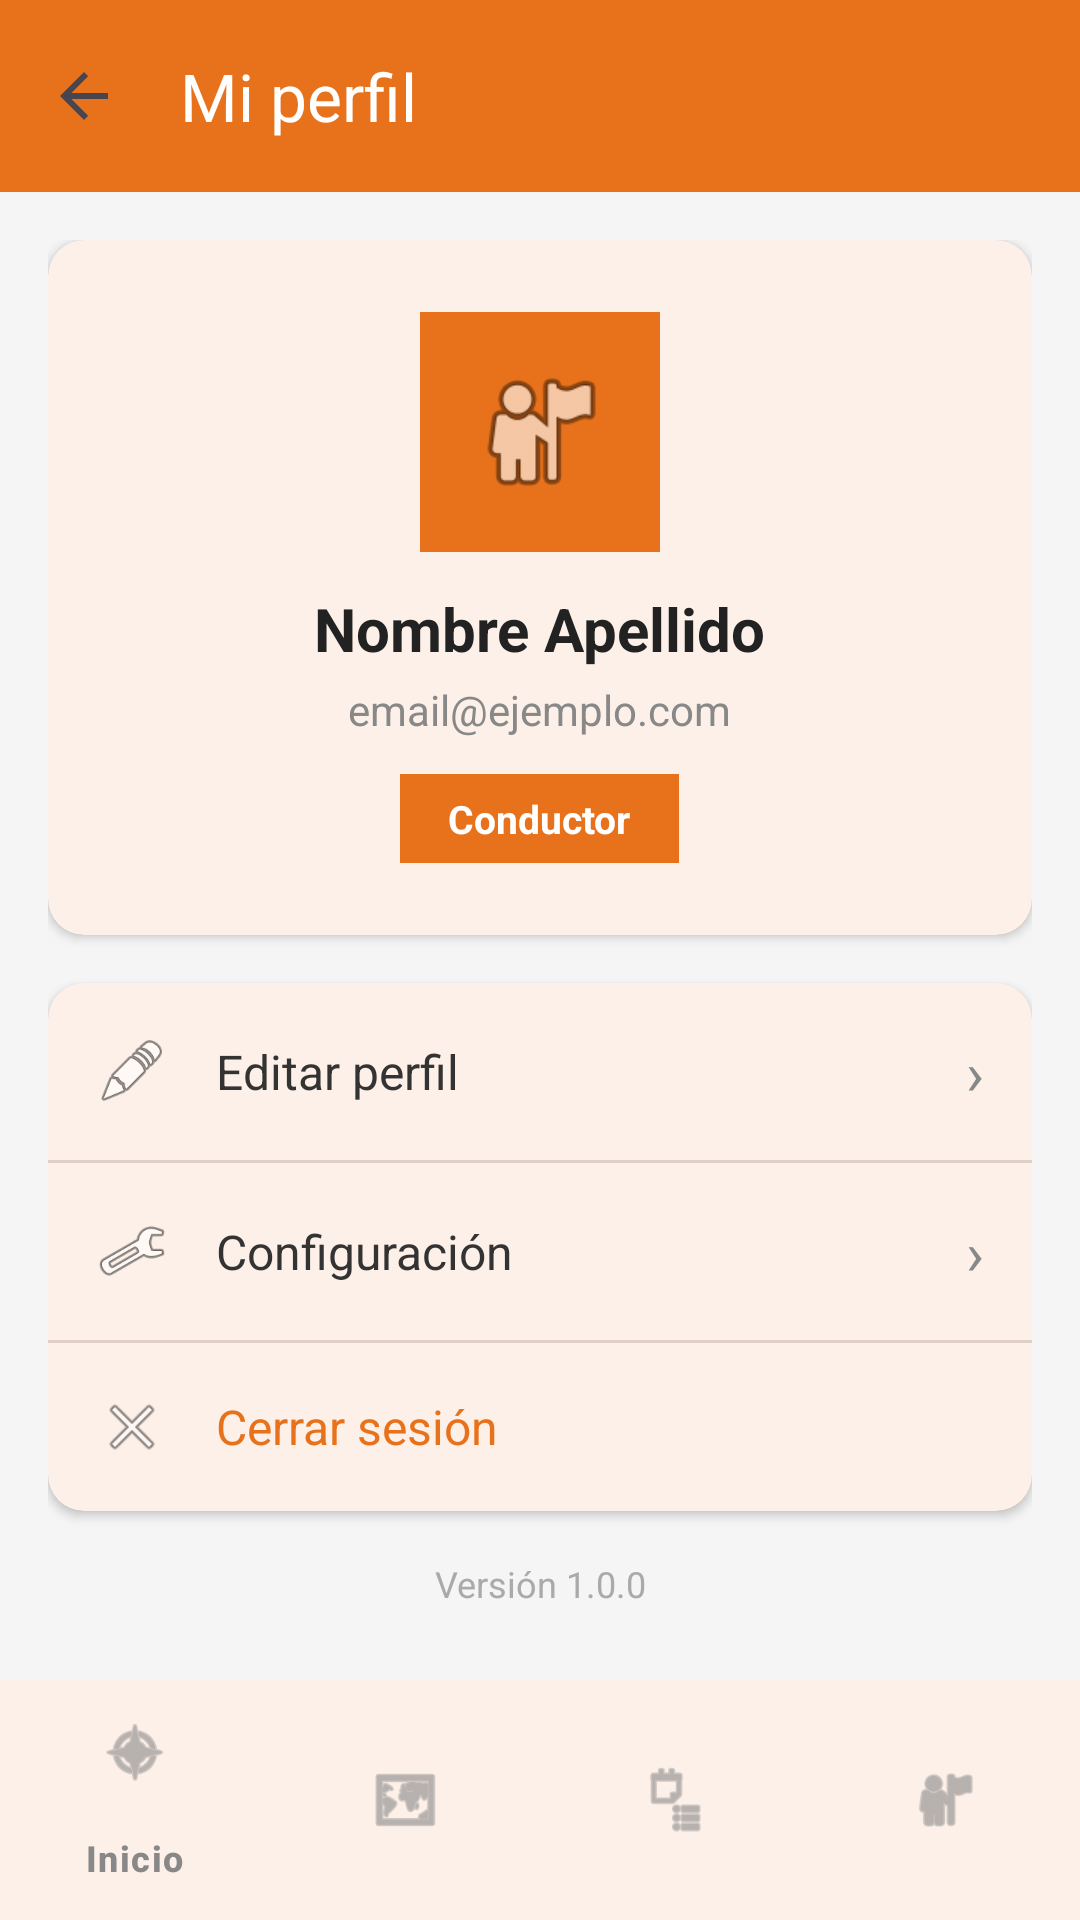

Named icons in this screenshot (1080*1920) and their centers, (x=x, y=y):
close clear cancel: (x=132, y=1427)
preferences: (x=131, y=1251)
